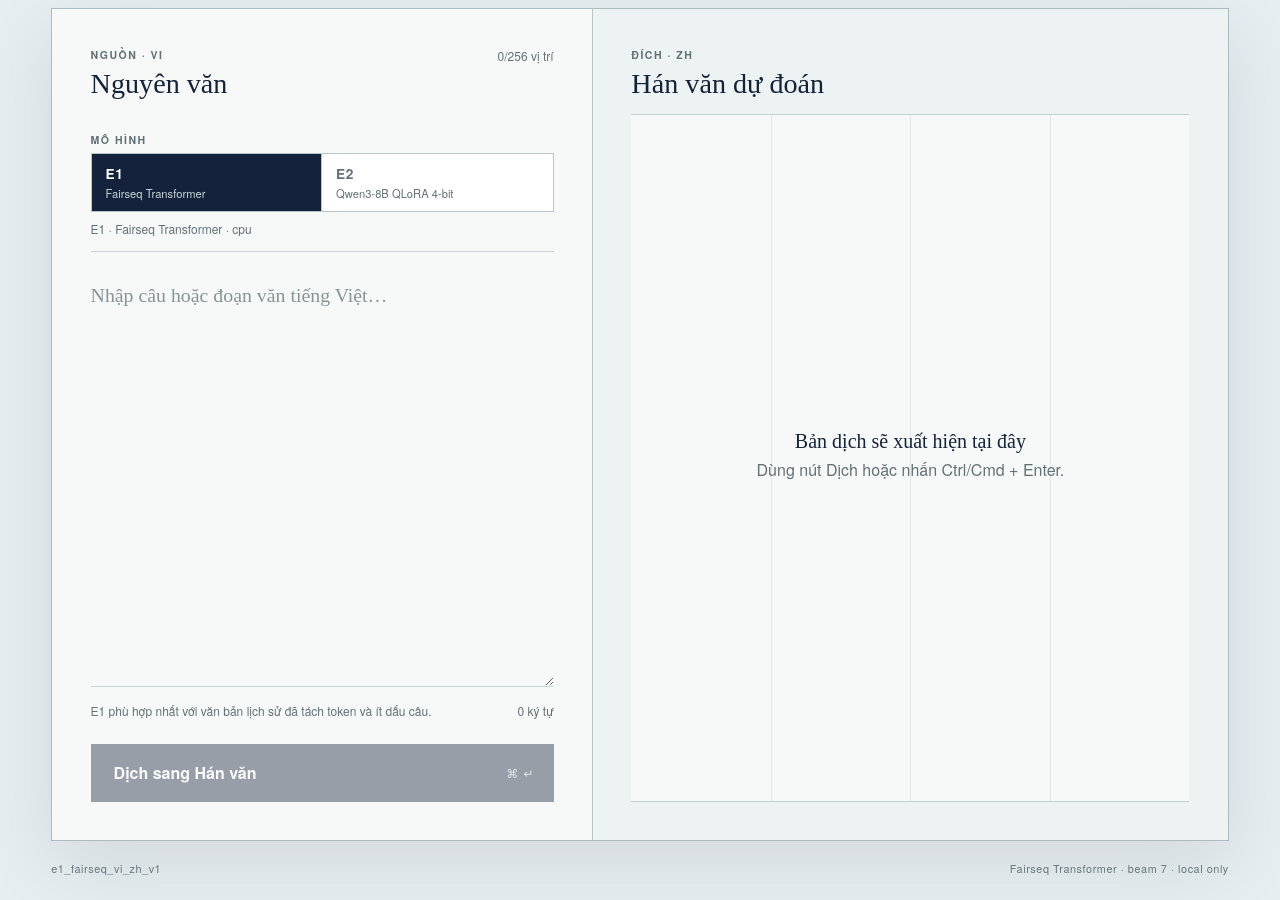
Test: E1/E2 MT interface › translates, reports metadata, OOV tokens, and copies the result
(page scrolled)
Type "Vua sai sứ sang phương Bắc" into the text box named "Văn bản tiếng Việt cần dịch" at (322, 469), box [91,251,554,687]
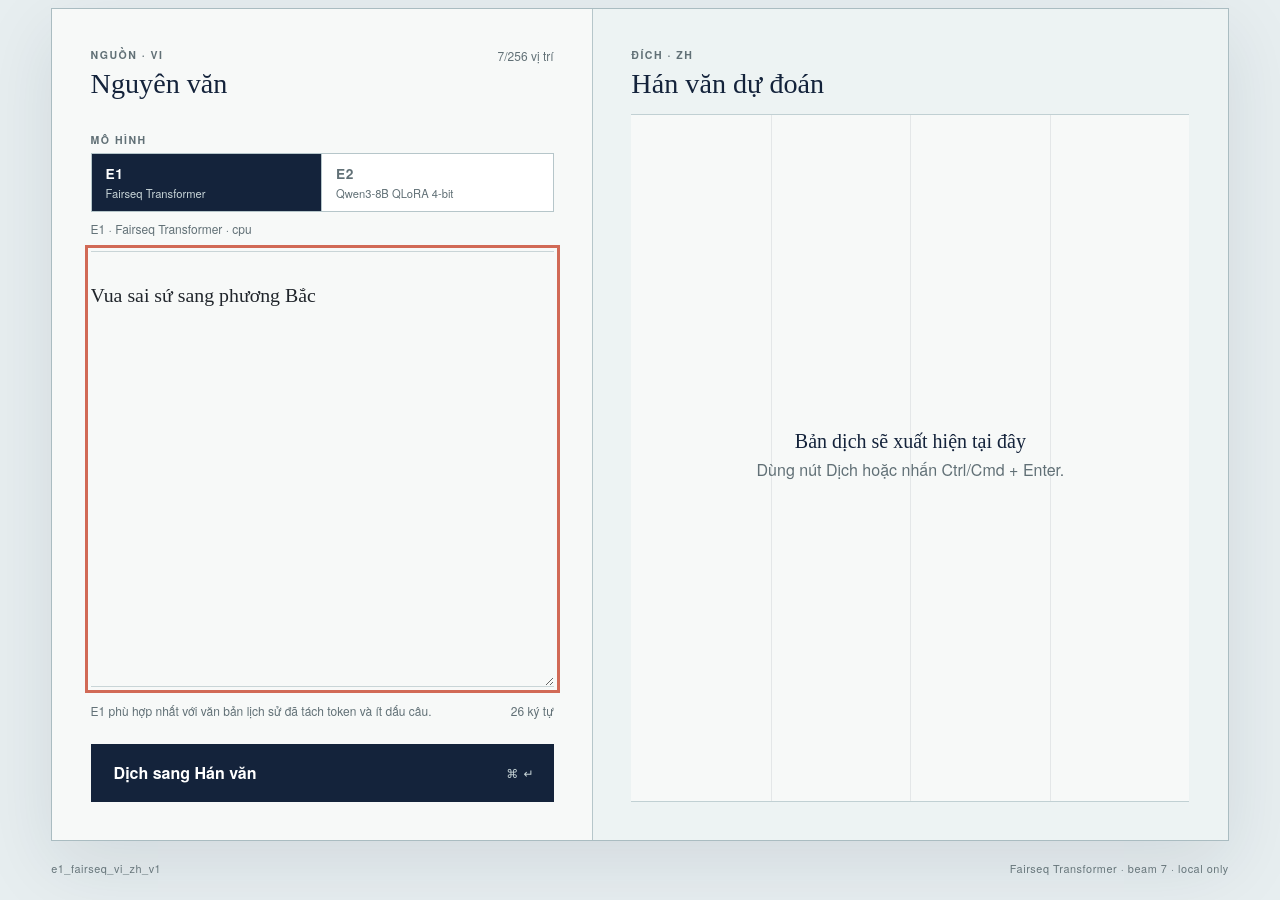
Click the button "Dịch sang Hán văn ⌘ ↵" at (185, 773), box [91,744,554,802]
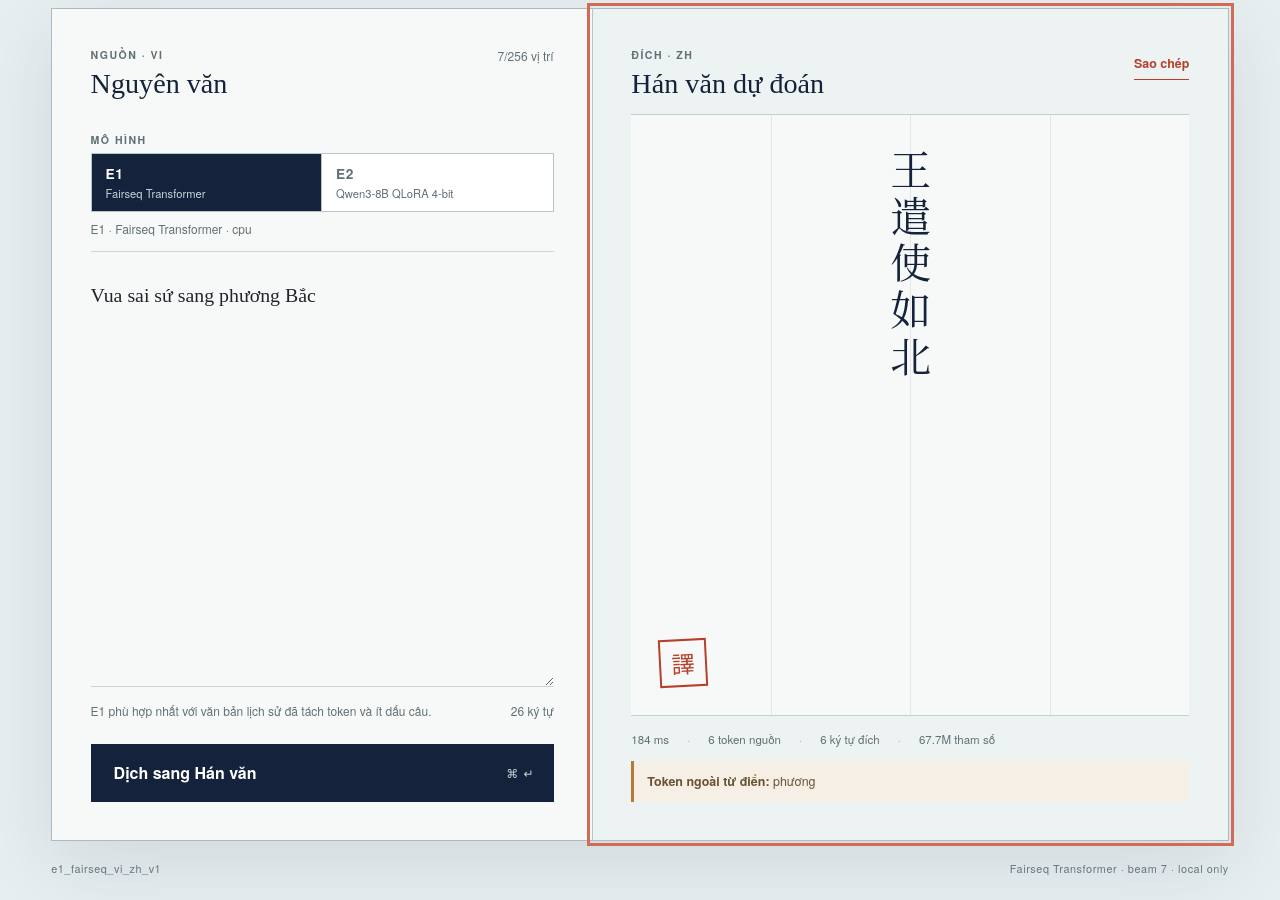
Result: the text "王遣使如北" is shown at [879,149,942,383]
Result: the text "Token ngoài từ điển:" is shown at [647,772,770,790]
Result: the text "184 ms" is shown at [631,731,690,747]
Click the button "Sao chép" at (1162, 64), box [1134,47,1189,80]
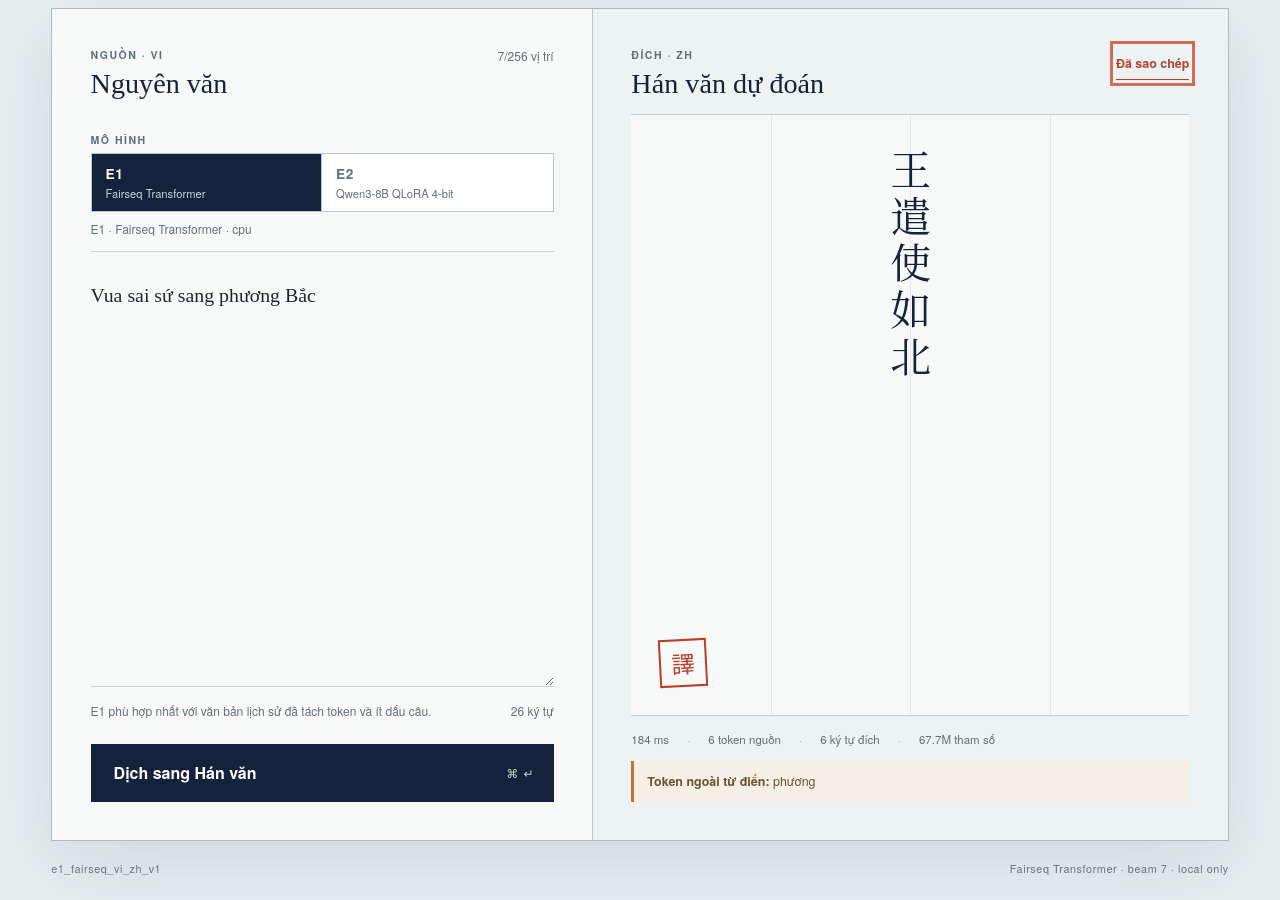
Result: the button "Đã sao chép" is shown at [1116,47,1190,80]
